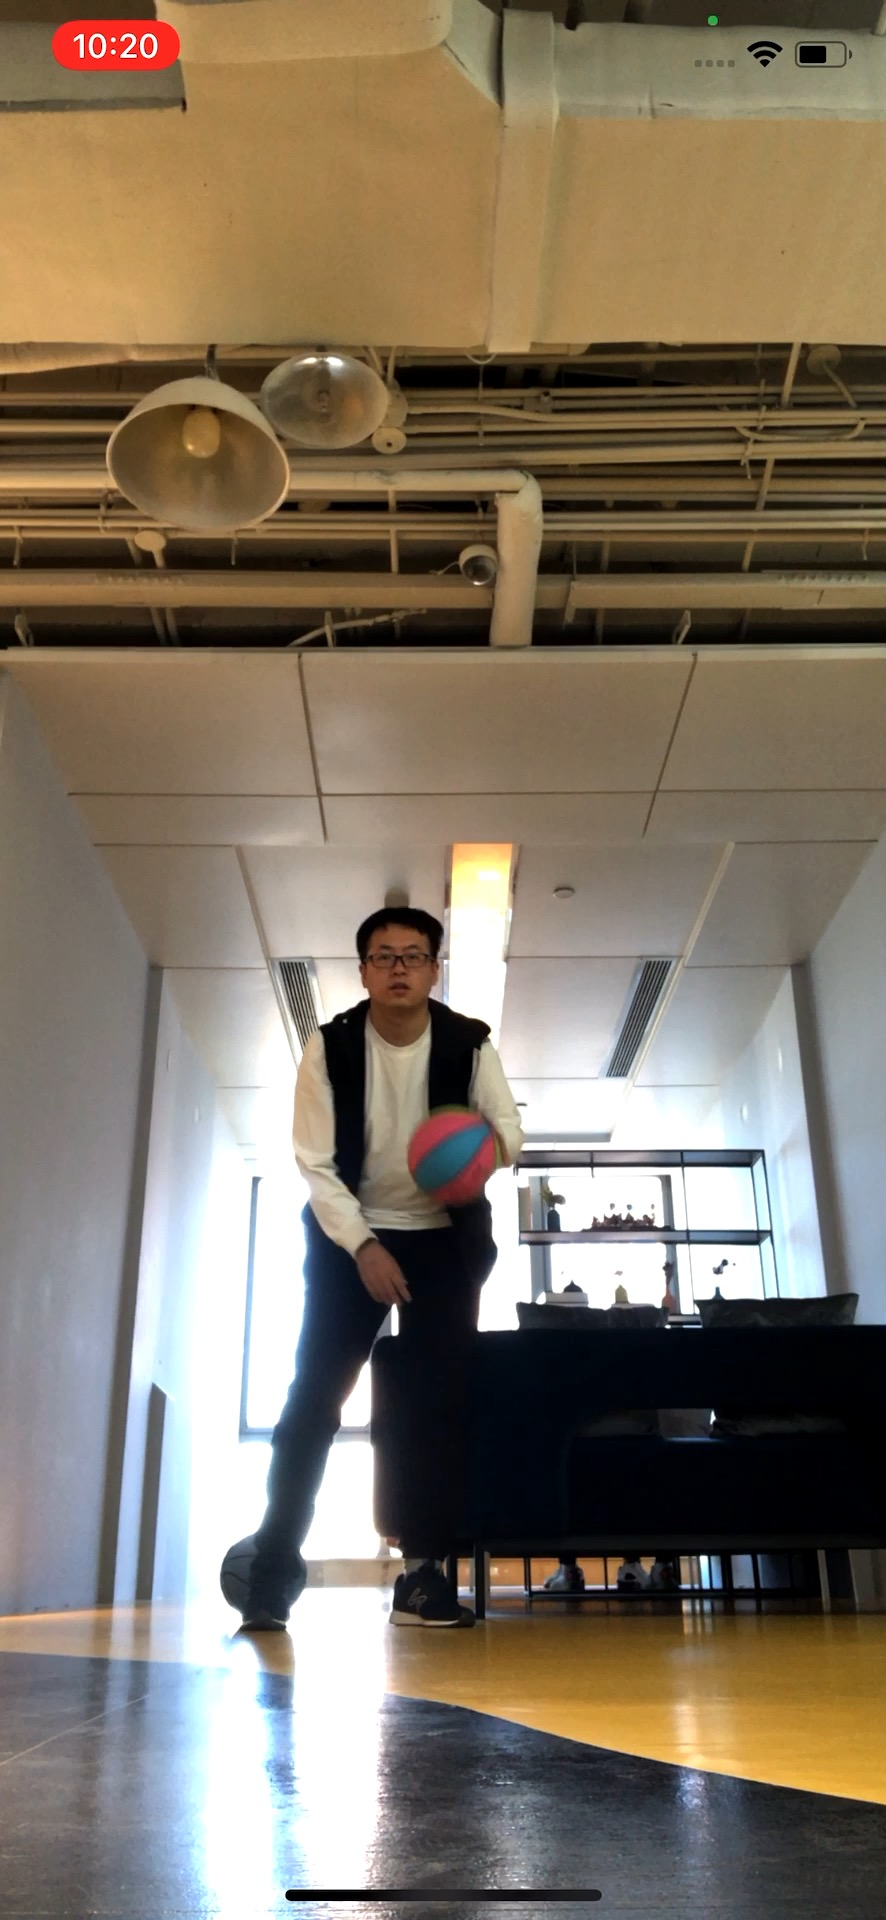ball: (410, 1108, 504, 1200)
